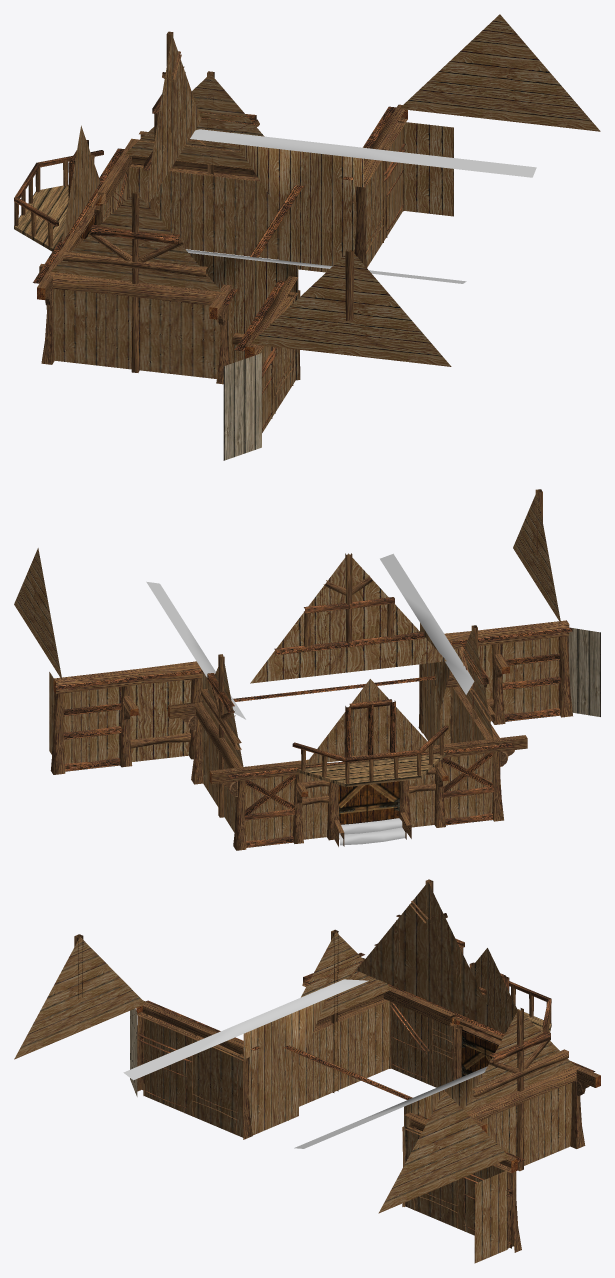
The model's file is LAKETOWN_EXTERIOR_PS_LT_TOWNHALL978__GX.obj.
3 renders of one model, top to bottom at view 1: azimuth 30°, elevation 25°; view 2: azimuth 150°, elevation 25°; view 3: azimuth 270°, elevation 25°, orthographic. The views are drawn at different scales.
Visible parts, largest first — view 1: TownHall978__GX; view 2: TownHall978__GX; view 3: TownHall978__GX.
Part boxes in pixels (x1=…): TownHall978__GX: x1=14, y1=14, x2=600, y2=460; TownHall978__GX: x1=14, y1=489, x2=600, y2=850; TownHall978__GX: x1=14, y1=879, x2=600, y2=1263.
Size of the model in its own units: 2290 by 1071 by 2290.
